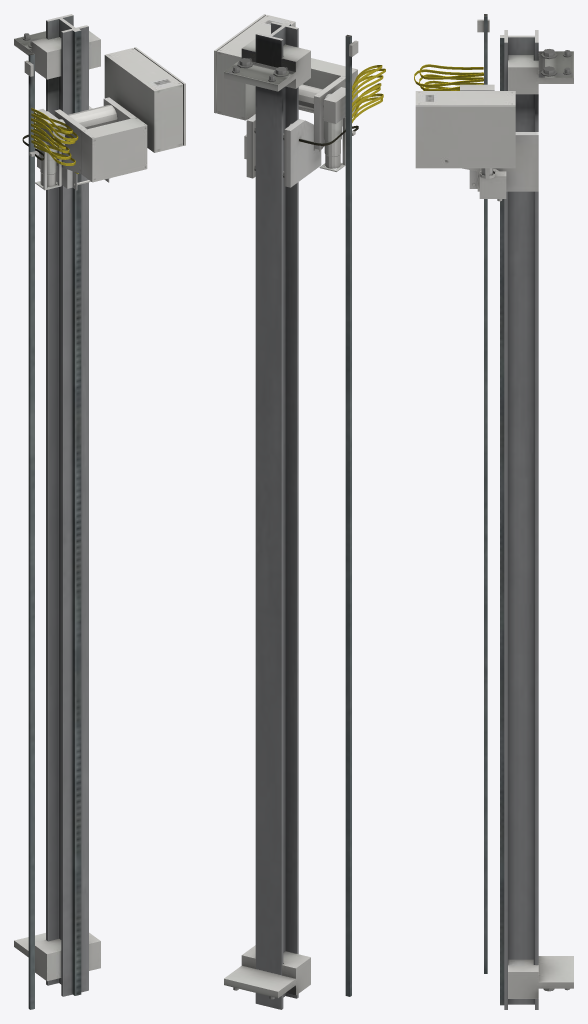
The model's file is pontRoulandBiPoutrePoutreMobile-hd05.fbx.
3 views of the same model, side by side, from view 1: azimuth 30°, elevation 25°; view 2: azimuth 150°, elevation 25°; view 3: azimuth 270°, elevation 25° (orthographic).
Parts seen in each view (by area): view 1: ShapeIndexedFaceSet; view 2: ShapeIndexedFaceSet; view 3: ShapeIndexedFaceSet.
Boxes of the visible parts, bbox=[...] form: ShapeIndexedFaceSet: bbox=[14, 14, 185, 1009]; ShapeIndexedFaceSet: bbox=[214, 14, 385, 1009]; ShapeIndexedFaceSet: bbox=[414, 14, 573, 1009].
Size of the model in its own units: 1.27 by 9.35 by 1.4.
